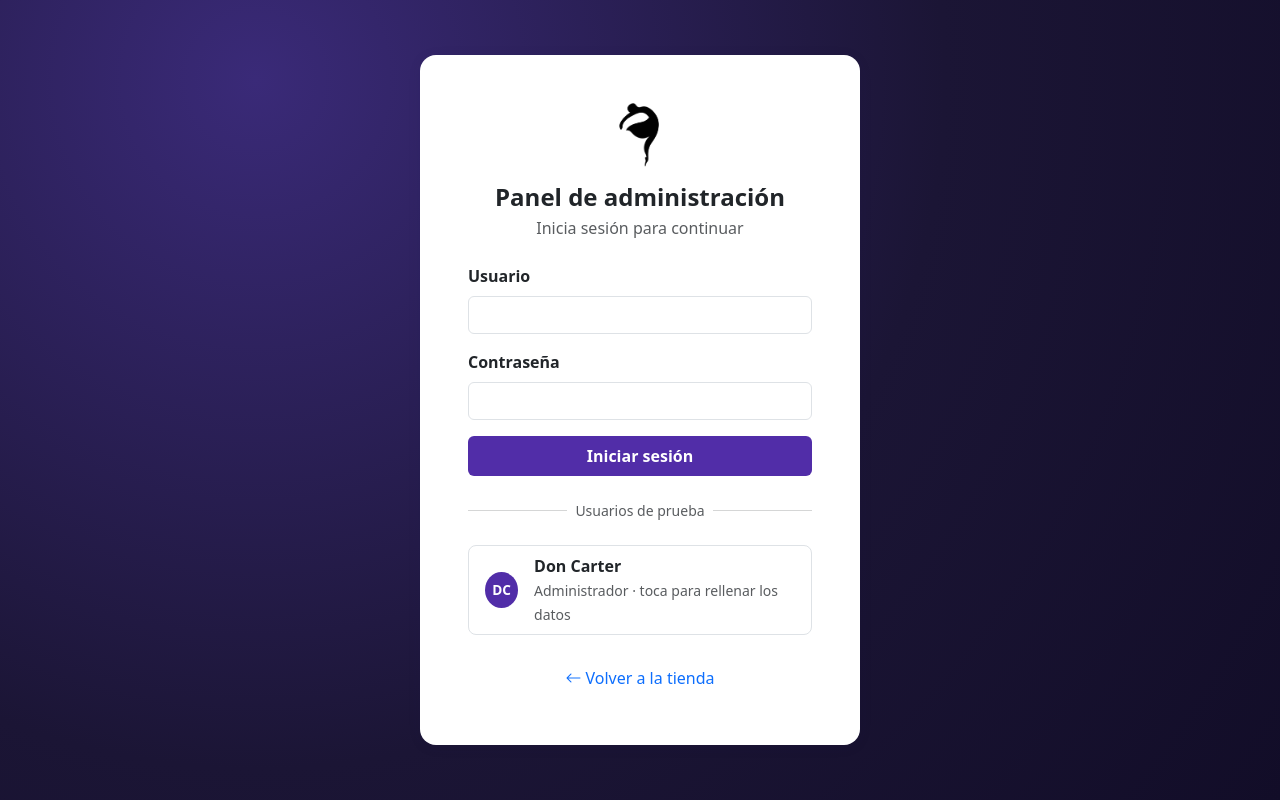
Test: pages/AdminPage (inicio de sesión del panel) › con los campos vacíos pide completar usuario y contraseña
Click the button "Iniciar sesión": {"x": 640, "y": 456} [468,436,812,476]
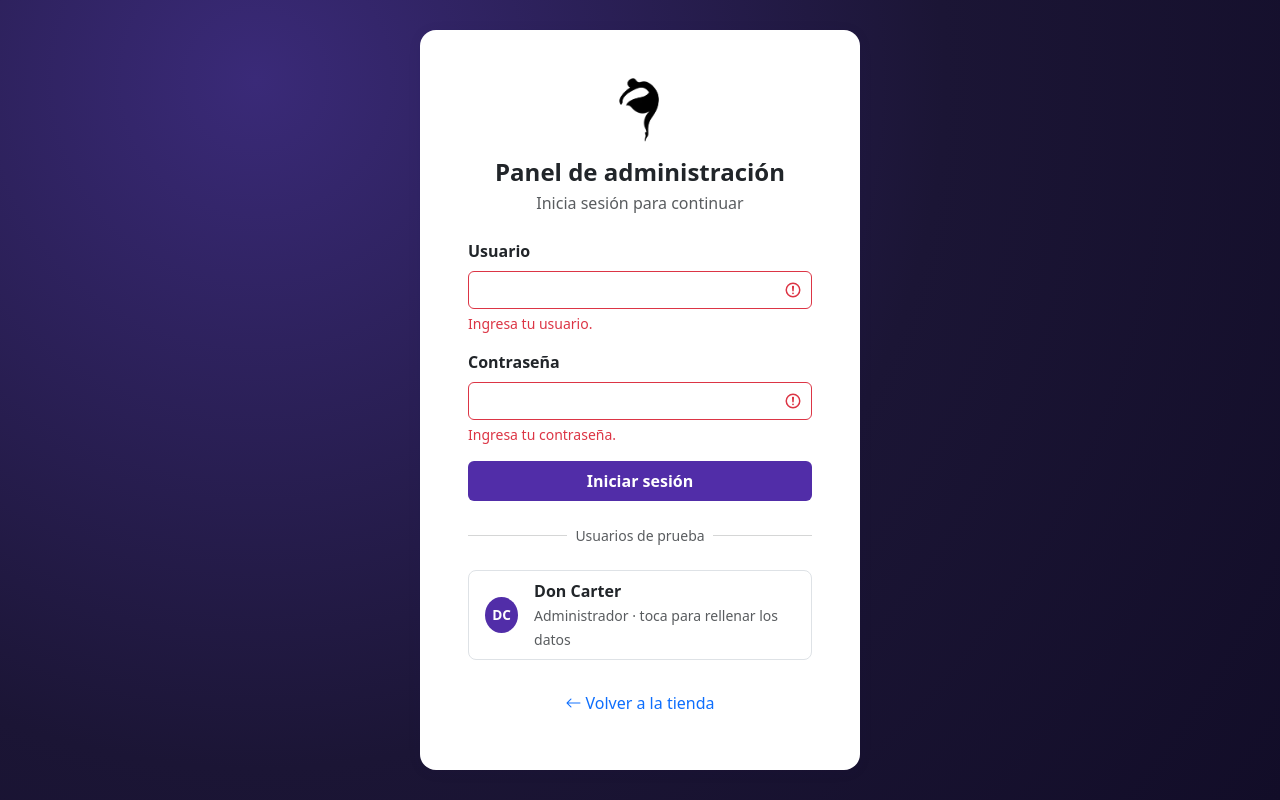
Now the text "Ingresa tu usuario." is shown, box [468,314,592,333]
Now the text "Ingresa tu contraseña." is shown, box [468,425,616,444]
